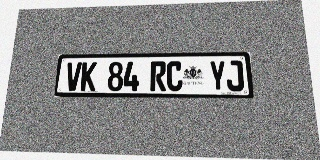4: (123, 61, 139, 91)
8: (107, 62, 124, 91)
C: (167, 61, 183, 91)
J: (226, 60, 244, 91)
K: (80, 62, 97, 91)
R: (150, 61, 166, 91)
V: (65, 62, 82, 91)
Y: (209, 61, 227, 91)
